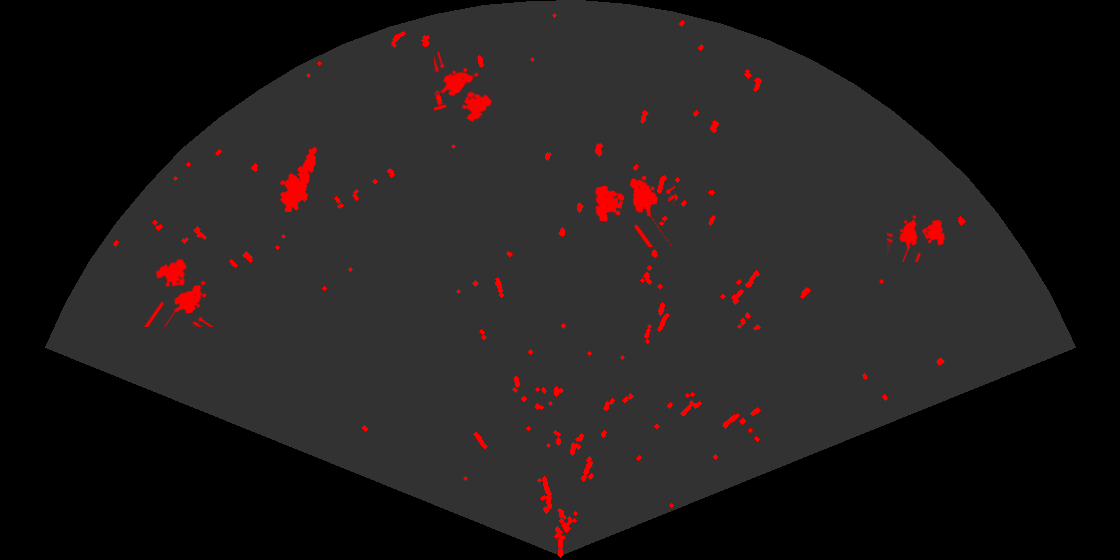cage: (593, 174, 675, 247), (142, 257, 215, 327), (434, 52, 494, 124), (887, 213, 947, 262)
frogman: (278, 145, 318, 212)
